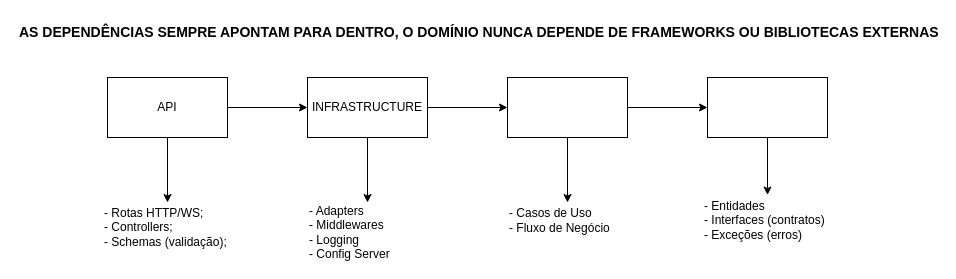
This 956x279 diagram has some shape labels left out. The centre of each missing label's shape, as x and y in pixels:
APPLICATION: the point at 567,107
DOMAIN: the point at 767,107
